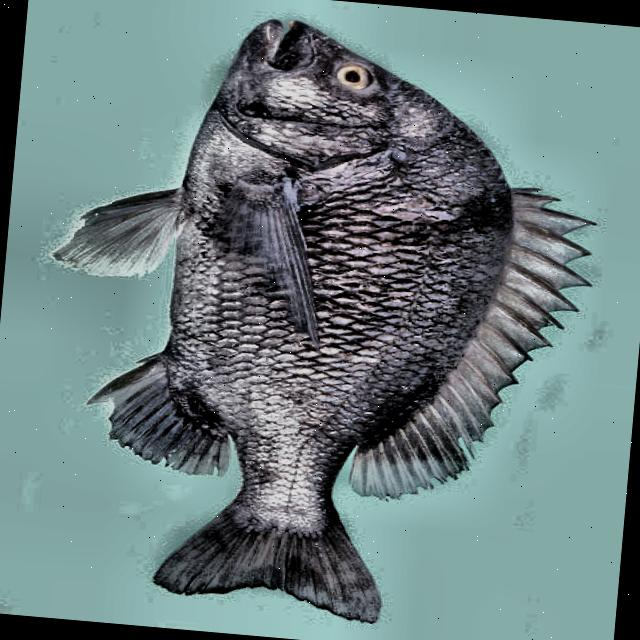fish: (23, 0, 612, 631)
